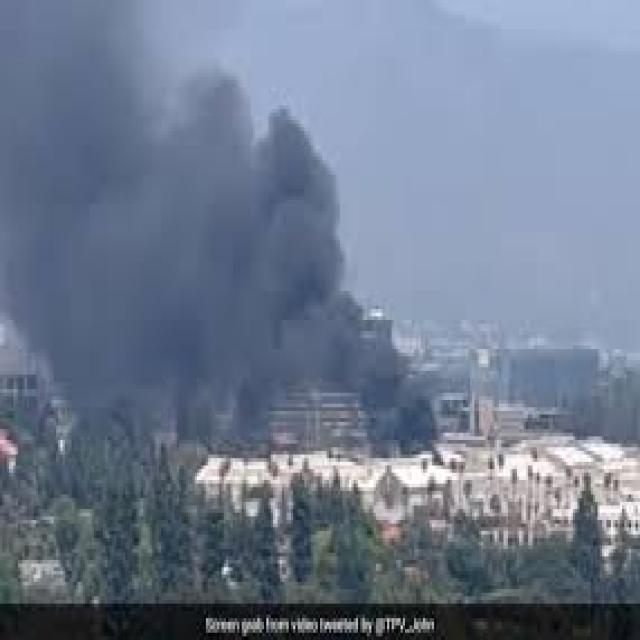Smoke: (0, 0, 439, 451)
